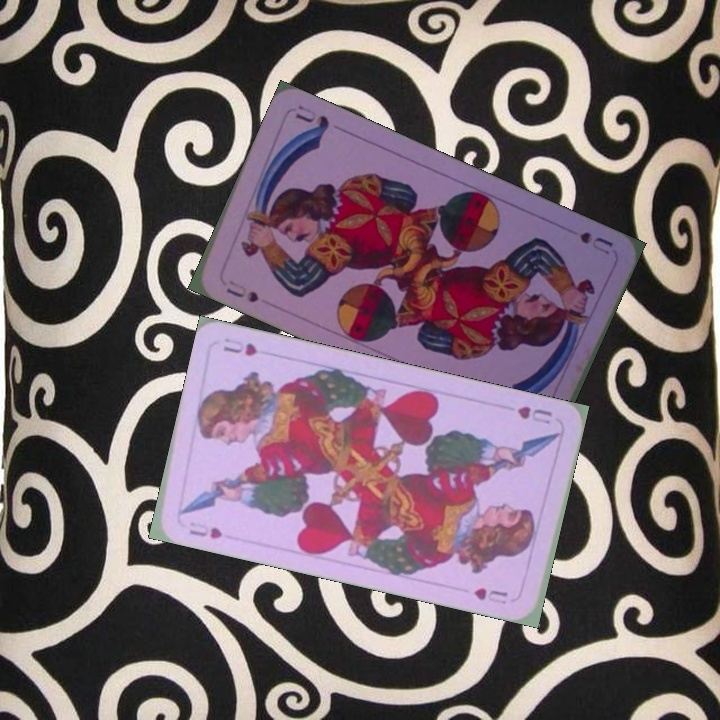HU: (513, 402, 555, 427), (185, 516, 225, 542)
SU: (575, 227, 616, 258), (222, 284, 261, 306)
